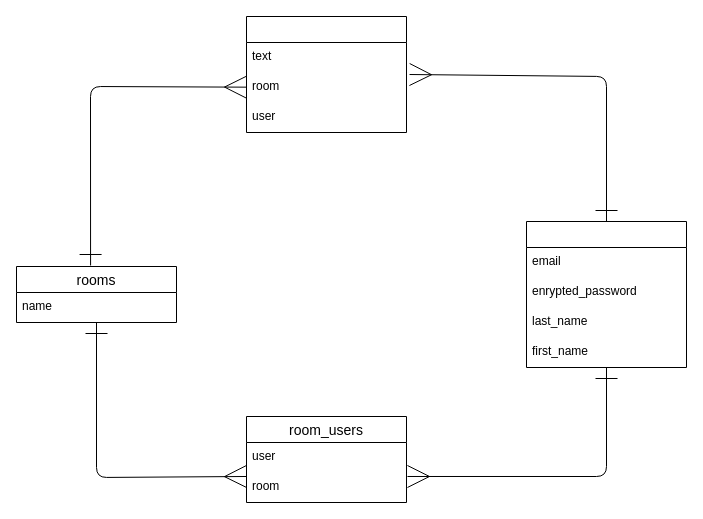
The diagram is 703 pixels wide and 519 high, and some of its shapes have lost their labels. The shapes that lost their labels are listed below. From the top down, each one's box as (x1, y1, x2, y2) in pixels, then its label:
(246, 16, 406, 132): opinions
(526, 220, 686, 368): users
